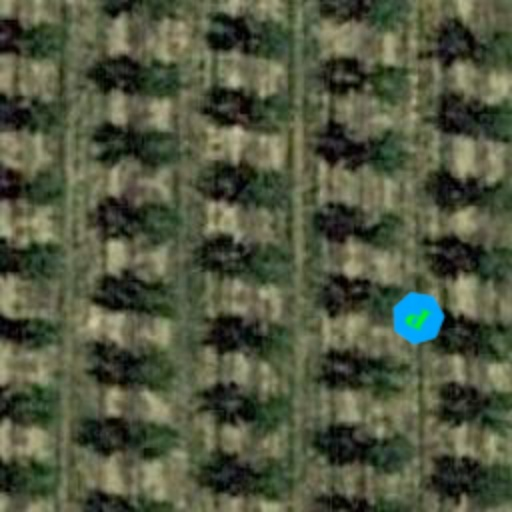heptagon: (382, 282, 454, 354)
